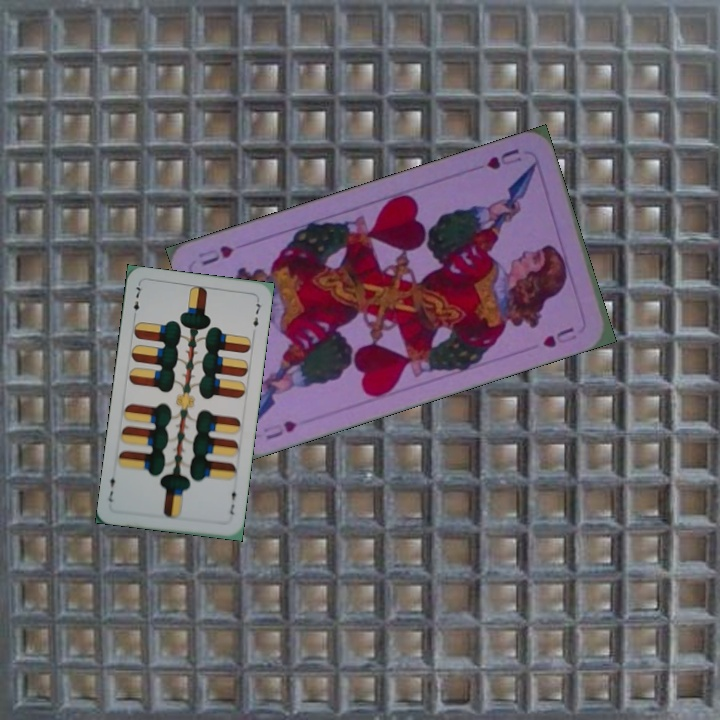E7: (129, 281, 143, 321), (226, 483, 240, 517)
HU: (482, 144, 524, 173), (259, 416, 300, 442)
